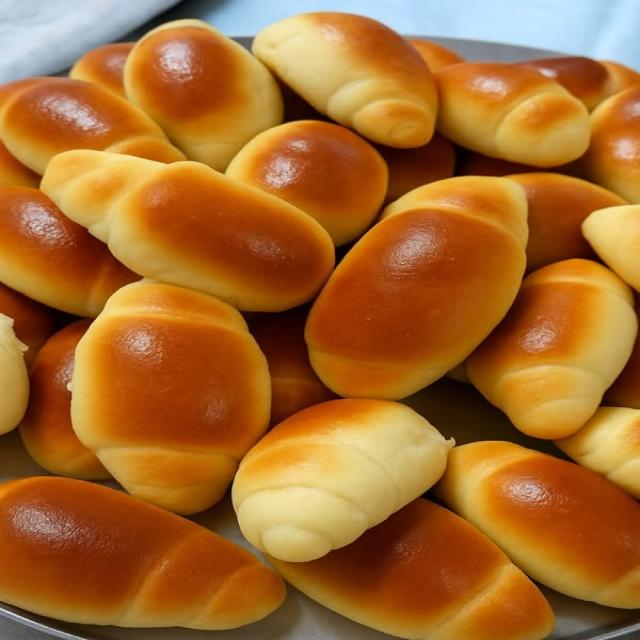bread: (306, 177, 527, 399), (42, 150, 334, 311), (71, 279, 270, 514), (0, 476, 285, 630), (267, 498, 554, 639), (232, 399, 453, 561), (435, 441, 639, 608), (467, 259, 637, 438), (252, 12, 438, 147), (123, 18, 283, 170), (226, 120, 388, 246), (0, 186, 139, 317), (0, 77, 184, 174), (434, 62, 590, 167), (19, 319, 110, 479), (506, 171, 627, 272), (246, 306, 337, 425), (555, 406, 639, 499), (580, 84, 639, 203), (377, 132, 456, 204), (515, 55, 610, 110), (0, 282, 60, 368), (582, 202, 639, 291), (69, 42, 135, 98), (0, 313, 29, 434), (603, 333, 639, 409), (407, 37, 466, 70), (0, 141, 40, 187), (599, 60, 639, 95)
